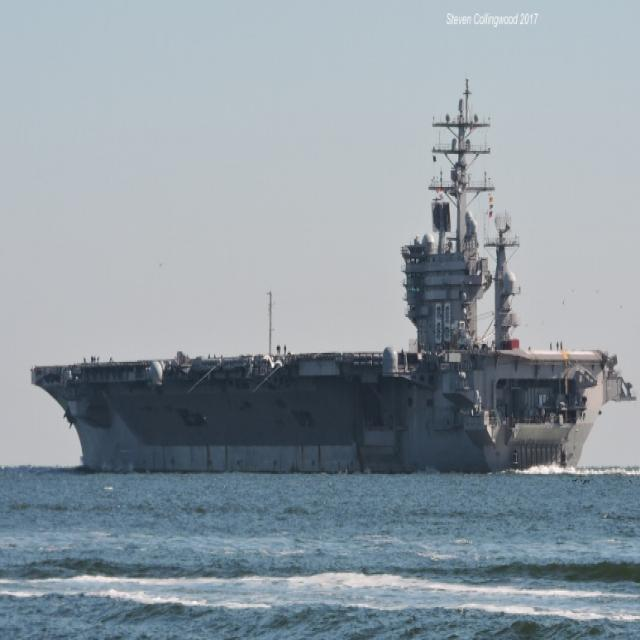Portanaves: (28, 88, 640, 480)
